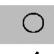no answer: (21, 7, 46, 35)
